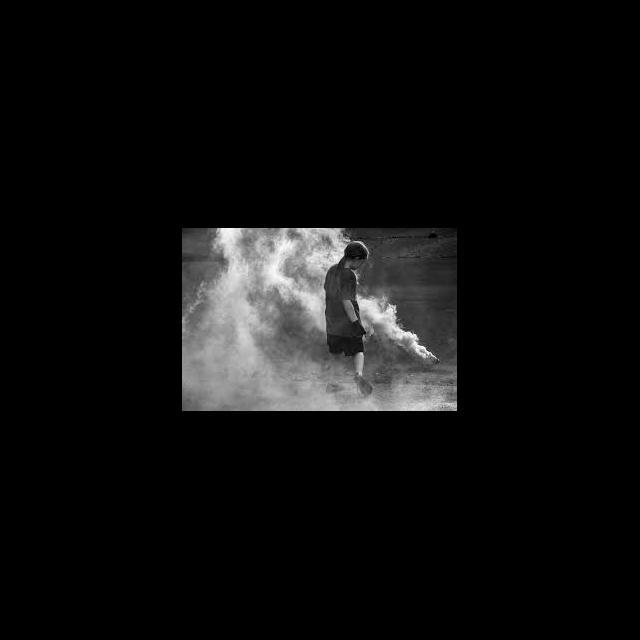Smoke: (182, 228, 322, 410), (370, 300, 440, 366)
